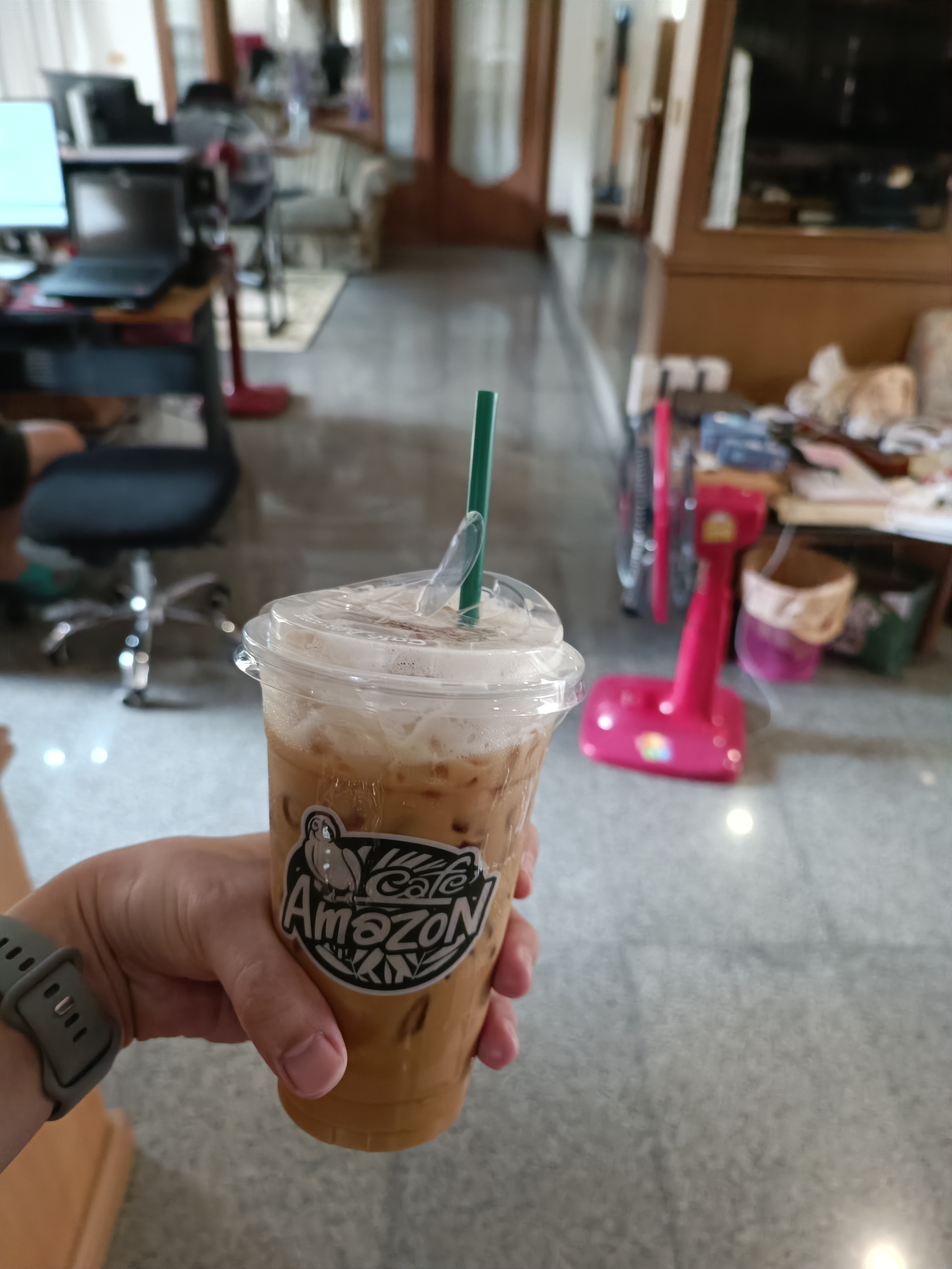plastic: (227, 371, 596, 1158)
